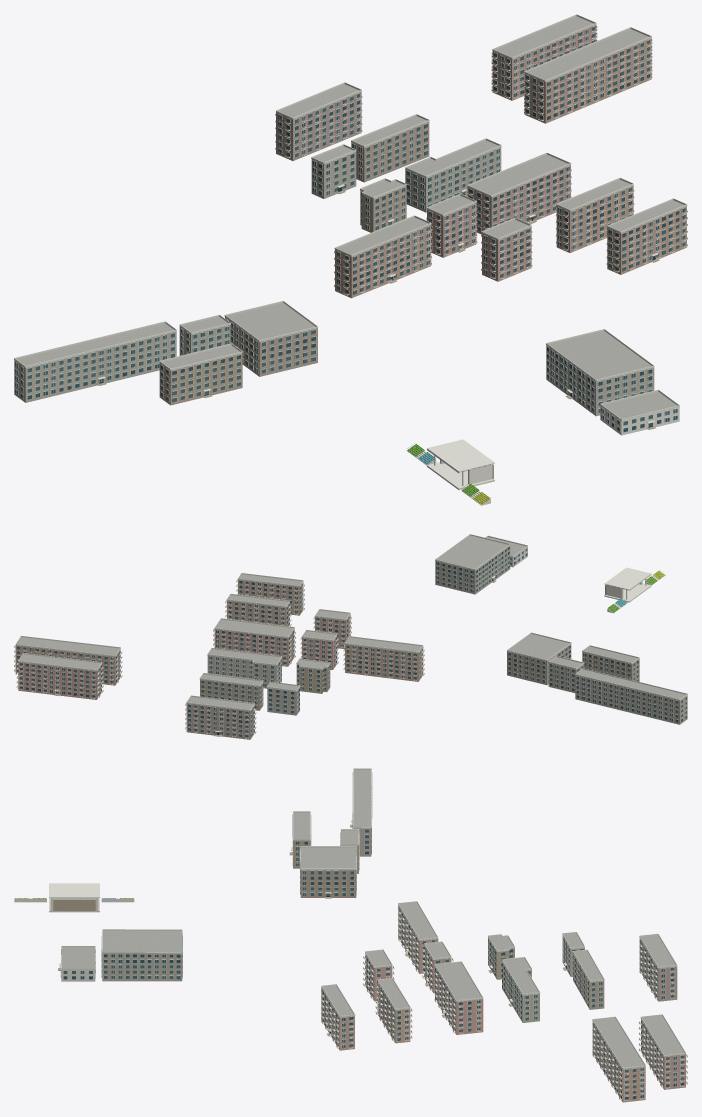
The model's file is chunk-n1-n1.glb.
The picture shows the model from 3 angles, top to bottom: view 1: azimuth 30°, elevation 25°; view 2: azimuth 150°, elevation 25°; view 3: azimuth 270°, elevation 25°; orthographic projection. The views are drawn at different scales.
Visible parts, largest first — view 1: chunk-n1-n1; view 2: chunk-n1-n1; view 3: chunk-n1-n1.
Part boxes in pixels (left/top/right/bottom): chunk-n1-n1: left=14, top=14, right=687, bottom=505; chunk-n1-n1: left=14, top=534, right=687, bottom=739; chunk-n1-n1: left=14, top=768, right=687, bottom=1102.
Size of the model in its own units: 406 by 28.42 by 372.
16 materials, 3 textured.
